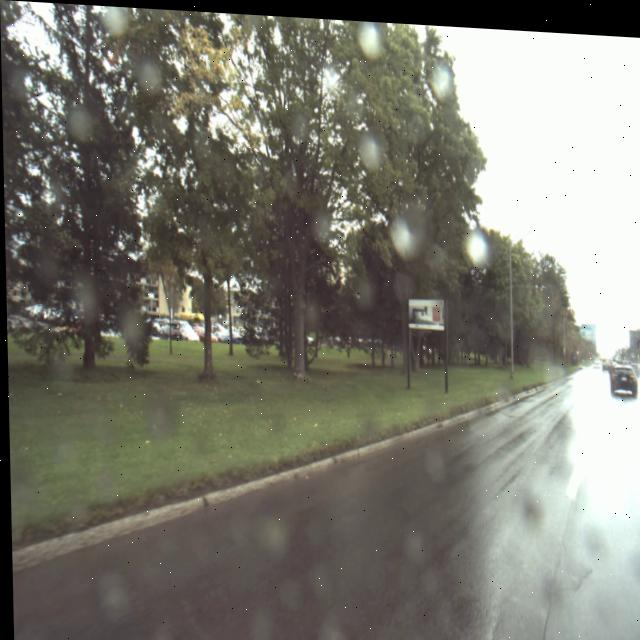car: (608, 356, 636, 390), (160, 318, 197, 341), (210, 325, 229, 341)
